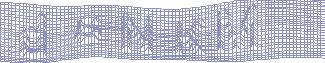K: (172, 18, 205, 56)
M: (215, 4, 259, 52)
N: (119, 11, 154, 56)
d: (18, 13, 49, 59)
s: (73, 13, 103, 45)
